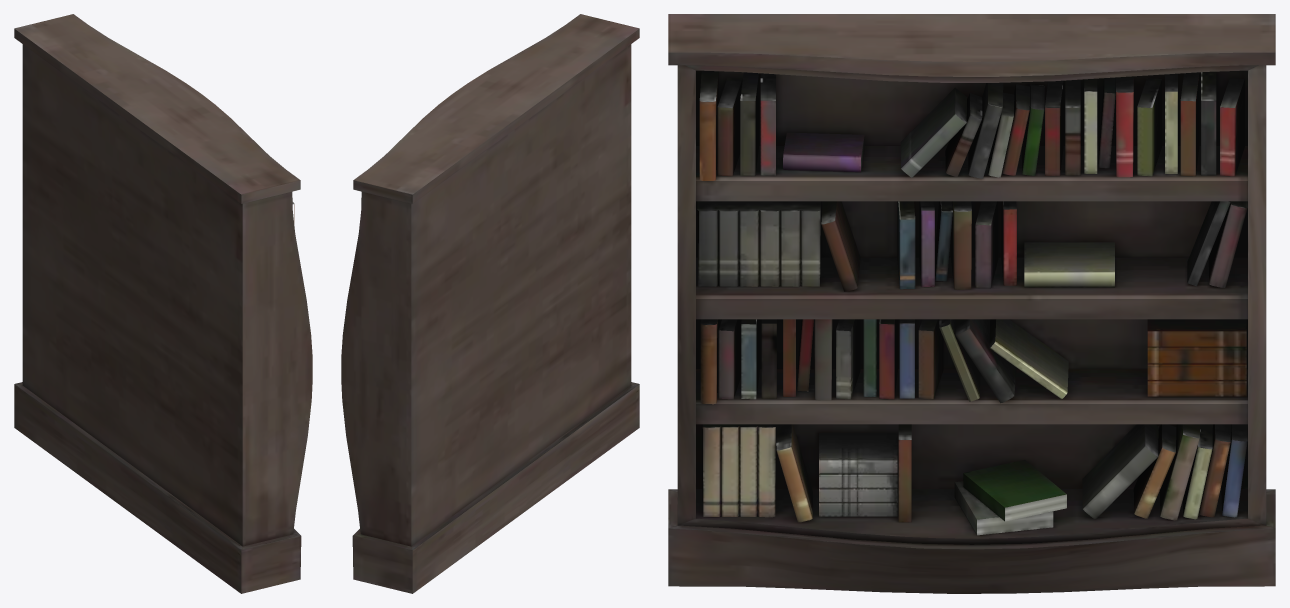
3 views of the same model, side by side, from view 1: azimuth 30°, elevation 25°; view 2: azimuth 150°, elevation 25°; view 3: azimuth 270°, elevation 25° (orthographic). The views are drawn at different scales.
Parts seen in each view (by area): view 1: body0_model0_lod0_mesh1; view 2: body0_model0_lod0_mesh1; view 3: body0_model0_lod0_mesh1, body0_model0_lod0_mesh0.
Part boxes in pixels (x1,y1,x2,y2): body0_model0_lod0_mesh1: [14, 14, 312, 593]; body0_model0_lod0_mesh1: [341, 14, 639, 593]; body0_model0_lod0_mesh1: [668, 14, 1275, 593]; body0_model0_lod0_mesh0: [697, 70, 1247, 535].
Size of the model in its own units: 30.87 by 128 by 132.
Materials: 2 (2 with a texture image).
